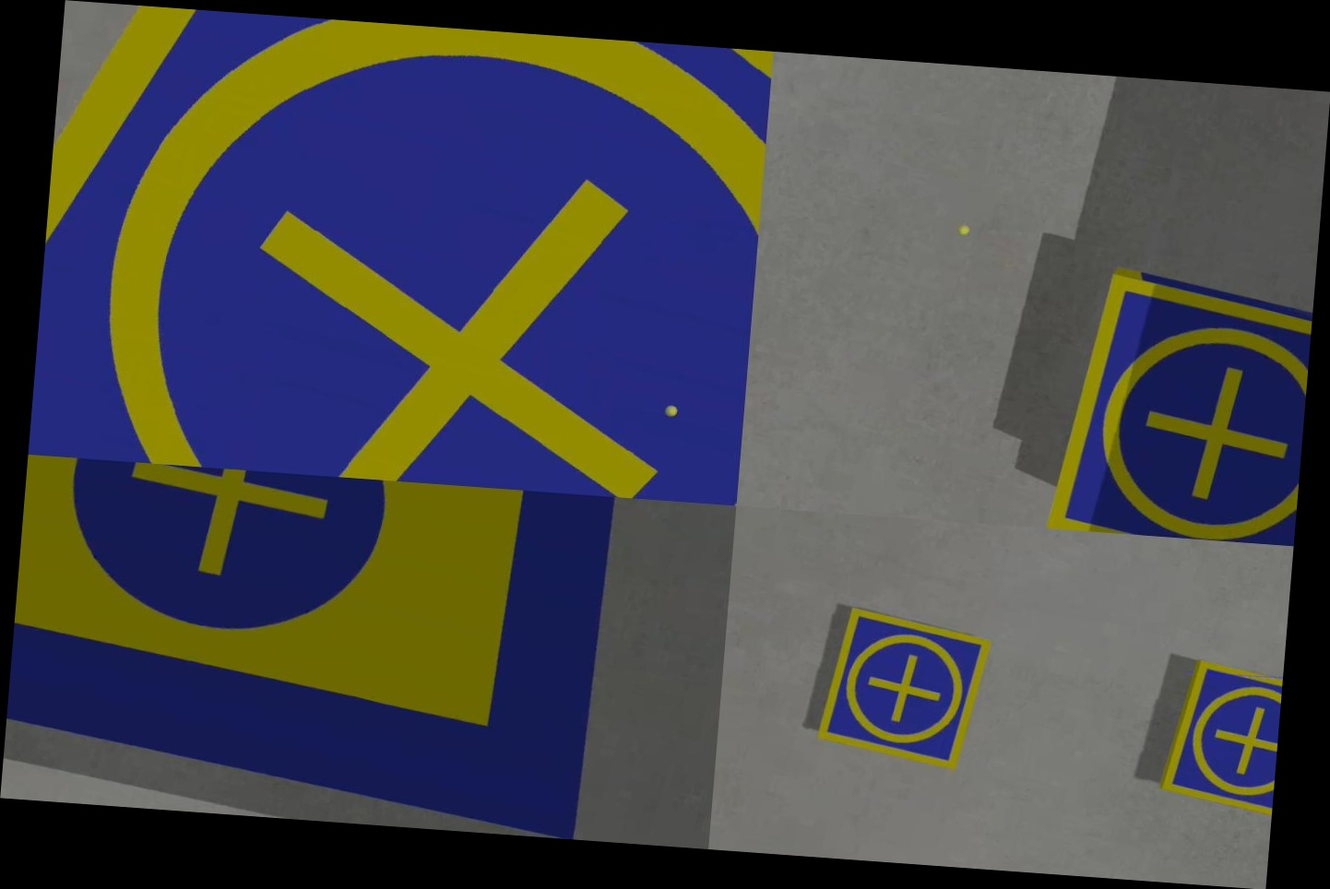large_base: (0, 455, 706, 847)
small_base: (28, 0, 773, 506), (1039, 264, 1314, 546), (812, 603, 999, 779), (1155, 652, 1283, 825)
